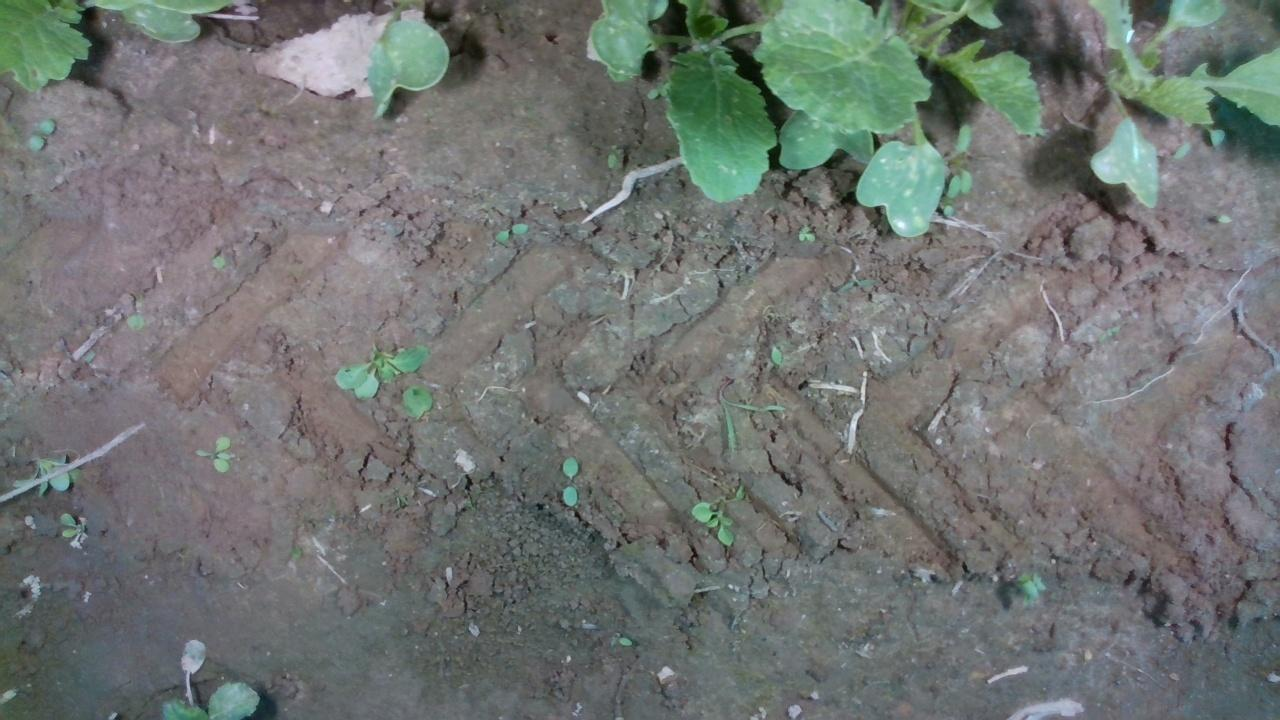weed: (191, 433, 230, 474), (558, 453, 578, 507), (25, 116, 55, 151), (493, 221, 528, 241), (796, 222, 817, 243), (605, 141, 621, 168)
